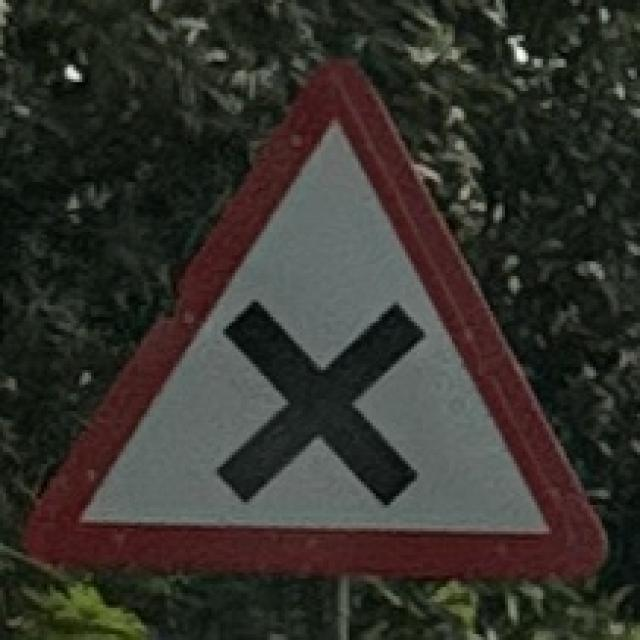CROSS_ROAD: (15, 43, 614, 590)
